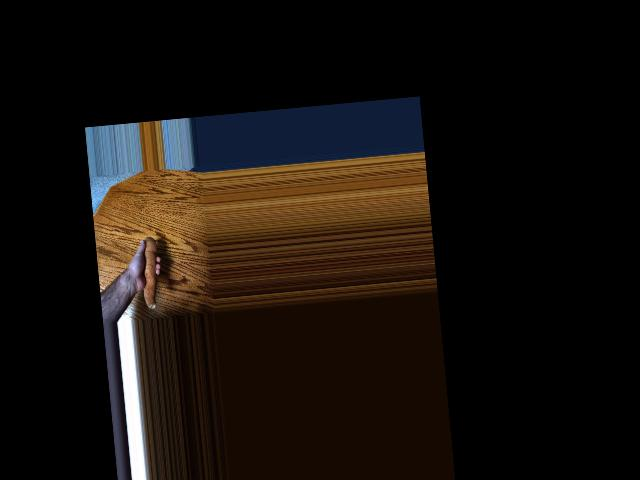sweet_potato: (132, 235, 163, 312)
